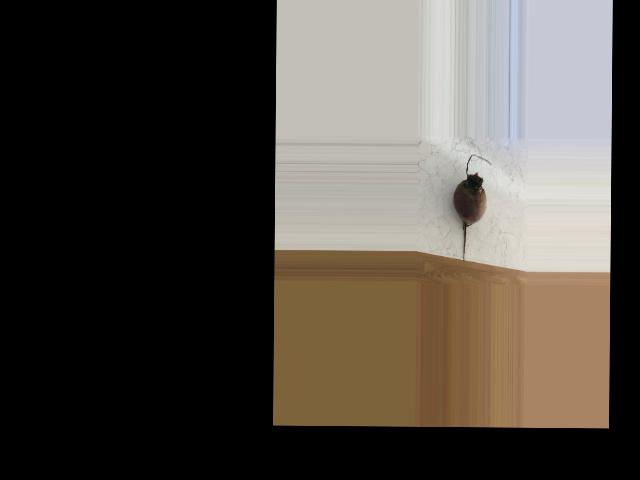beet: (452, 155, 491, 263)
